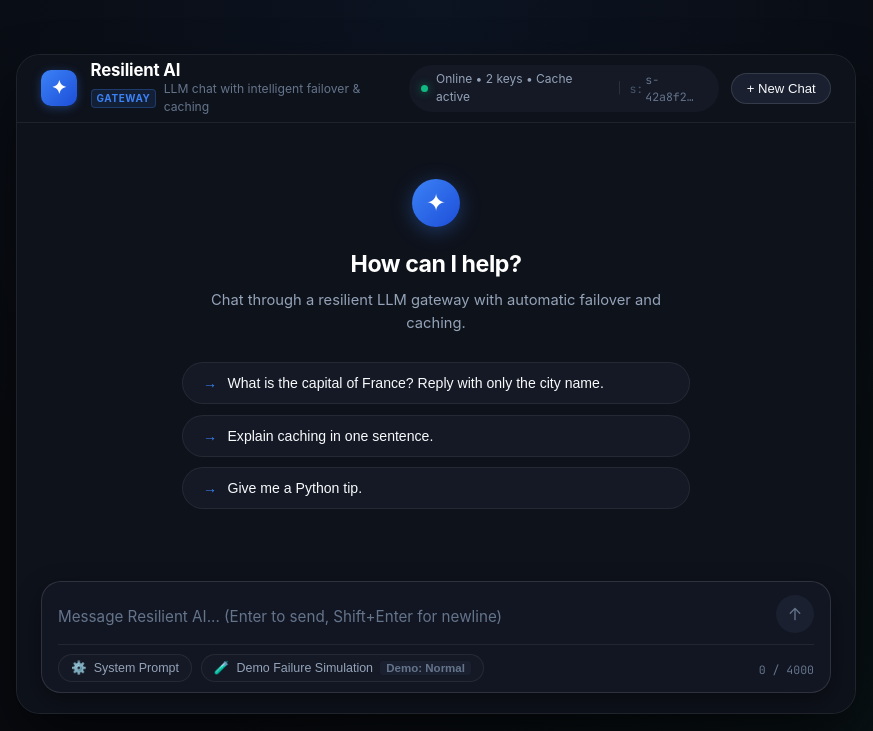
Test case: Resilient AI Frontend Component & Integration Tests › allows selecting Demo Failure Simulation modes
Check: the text "Online • 2 keys • Cache active" is shown, box [436, 71, 572, 104]
Click the text "Demo Failure Simulation": (305, 668) [236, 661, 373, 675]
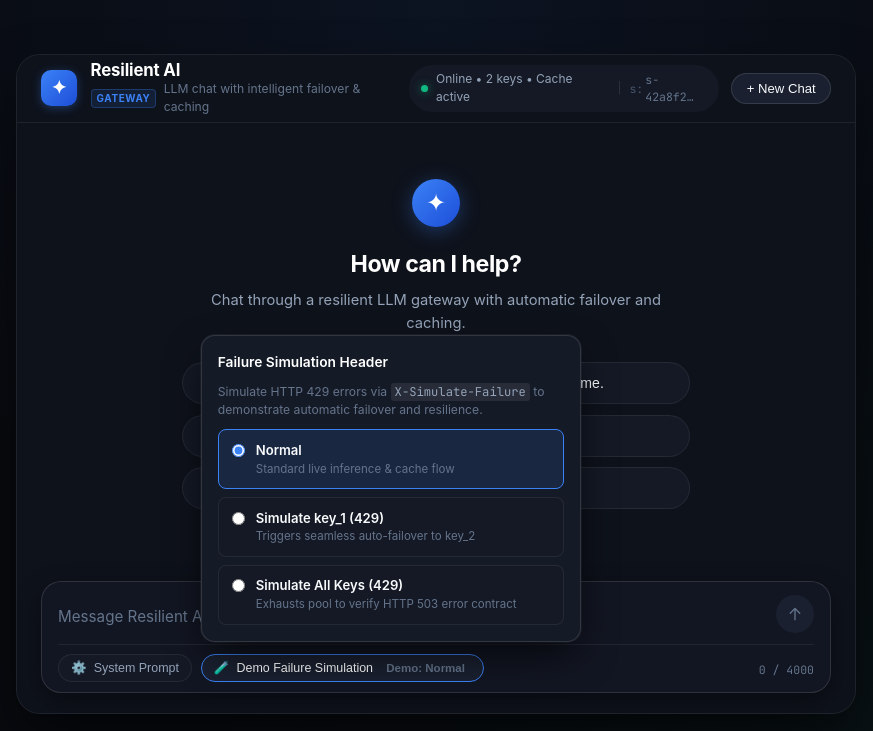
Check: the radio button labelled "Normal Standard live inference & cache flow" is checked, box [232, 444, 245, 457]
Click the radio button labelled "Simulate key_1 (429)": (239, 518) [232, 512, 245, 525]
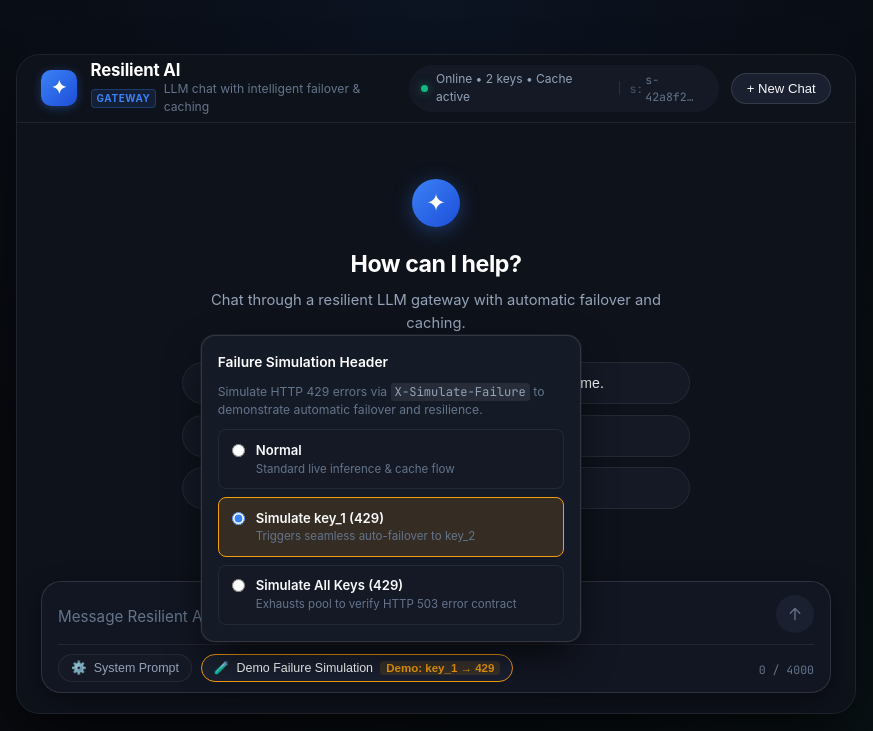
Check: the radio button labelled "Simulate key_1 (429)" is checked, box [232, 512, 245, 525]
Click the radio button labelled "Simulate All Keys (429)": (239, 586) [232, 579, 245, 592]
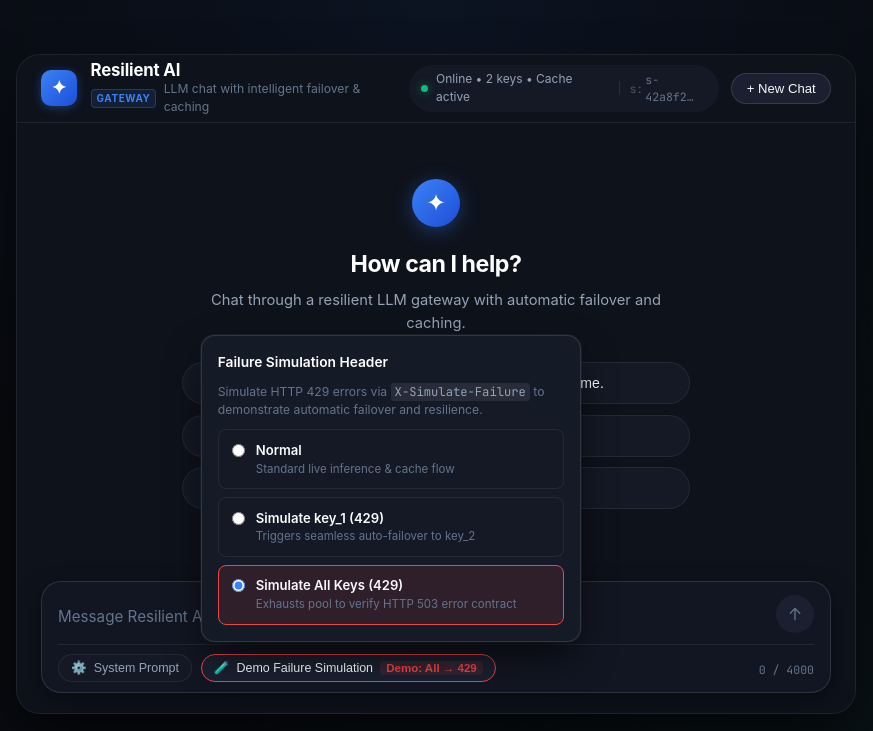
Check: the radio button labelled "Simulate All Keys (429)" is checked, box [232, 579, 245, 592]
